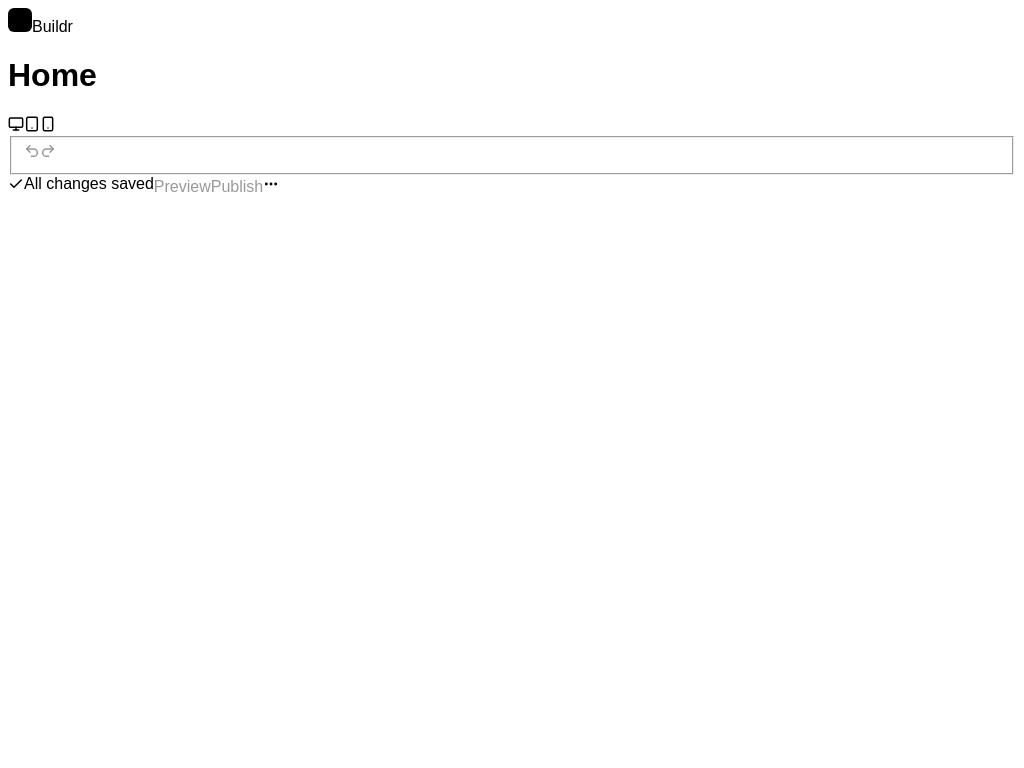
Scenario: Toolbar › opens the shortcut help from the more menu
The width and height of the screenshot is (1024, 768).
Click the button named "More actions": (271, 184) left=263, top=176, right=279, bottom=192
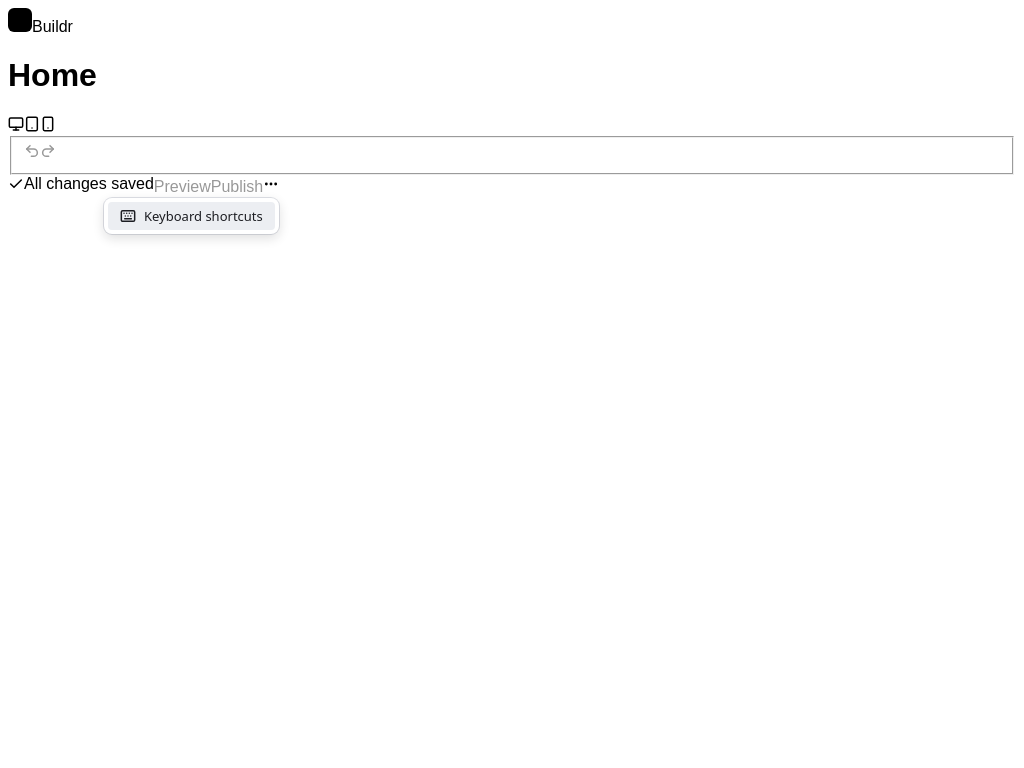
Click the button "Keyboard shortcuts": (191, 216) left=108, top=202, right=275, bottom=230
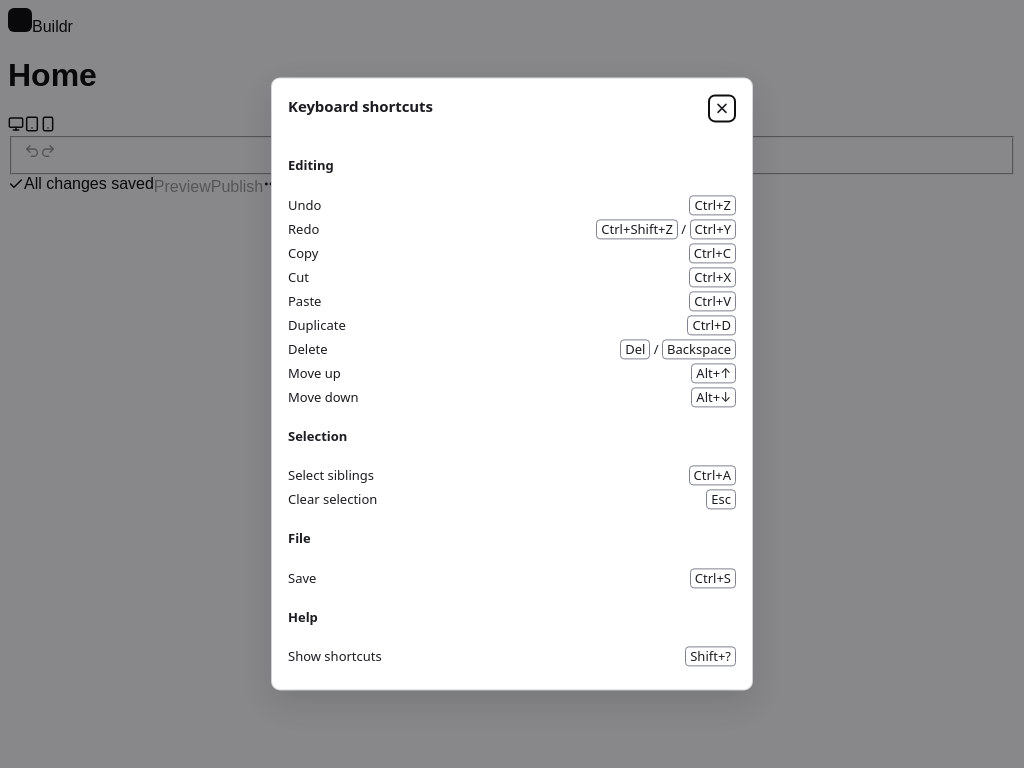
Expected: the dialog shows "Keyboard shortcuts", left=288, top=96, right=433, bottom=116
